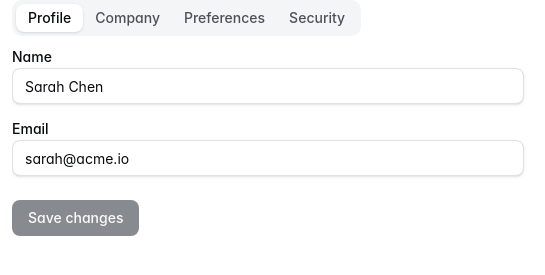
Test: SettingsForm › shows a validation error for an invalid email
Replace the text in the field labelled "Email" with "not-an-email" at (268, 158), box [12,140,524,176]
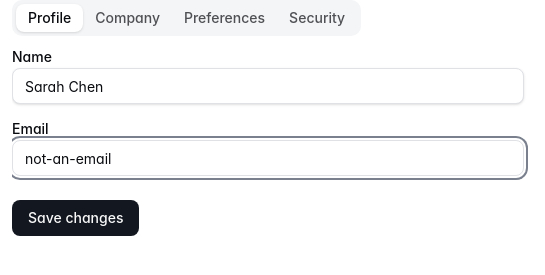
Click the button "Save changes" at (76, 218), box [12,200,140,236]
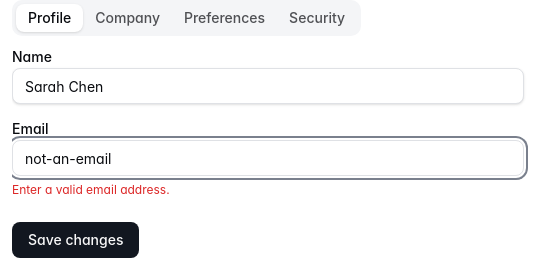
Check: the text "Enter a valid email address." is shown, box [12,182,170,197]
